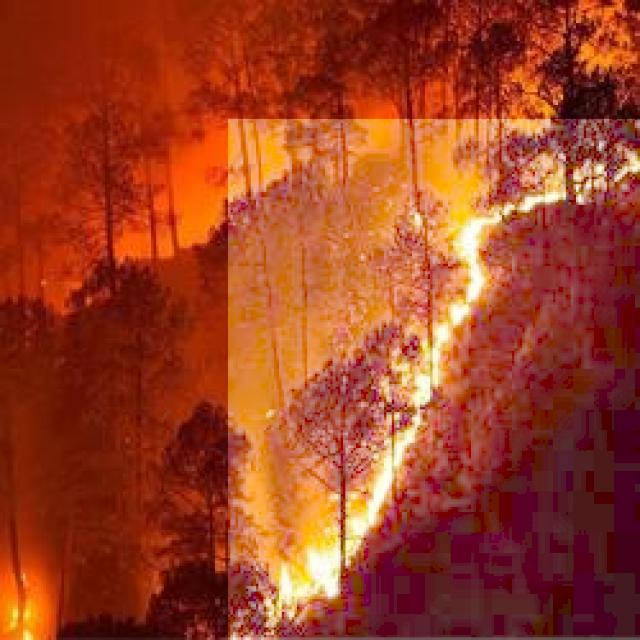Fire: (228, 119, 640, 640)
